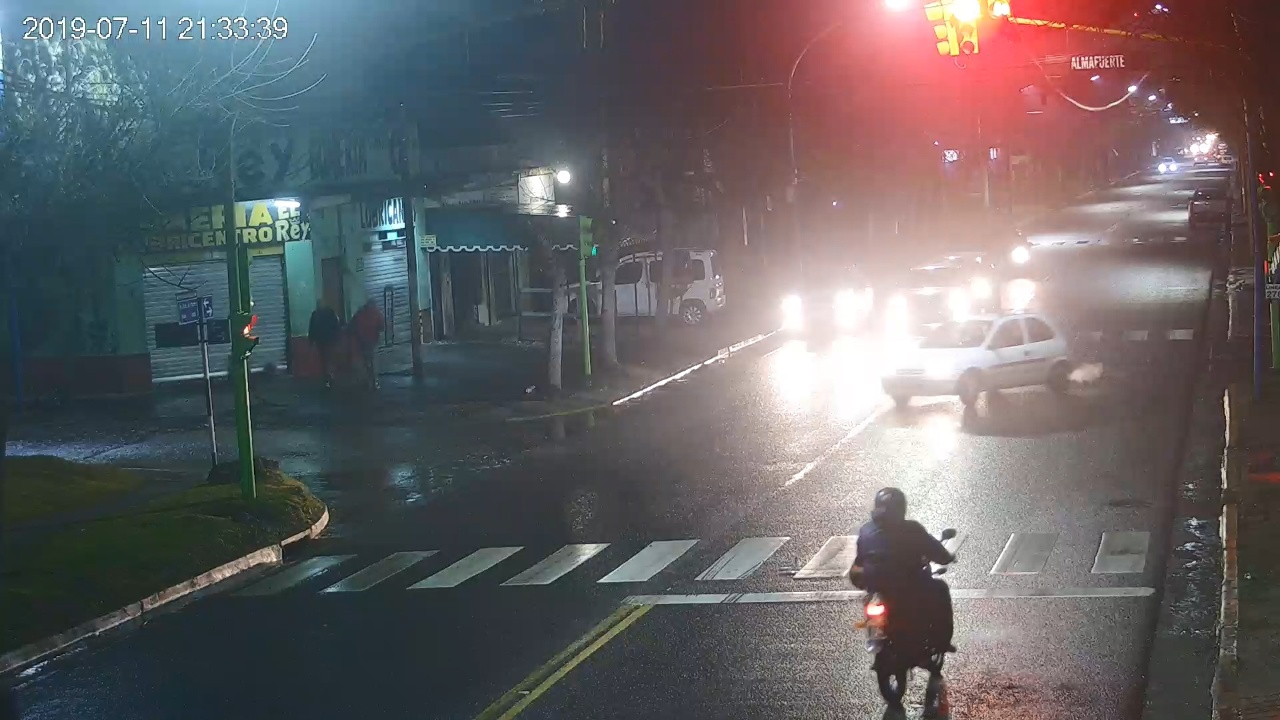motorcycle: (850, 527, 960, 702)
traffic light: (957, 1, 980, 54)
